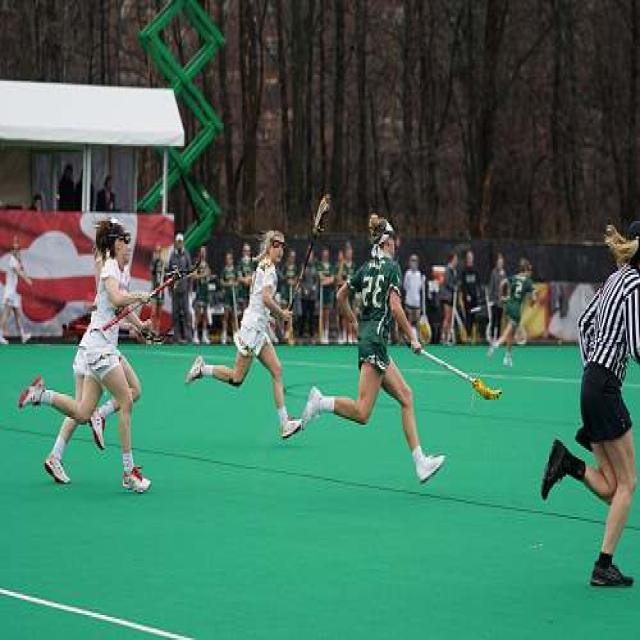running: (303, 214, 453, 486), (544, 217, 640, 590), (44, 219, 152, 498), (184, 227, 304, 450)
